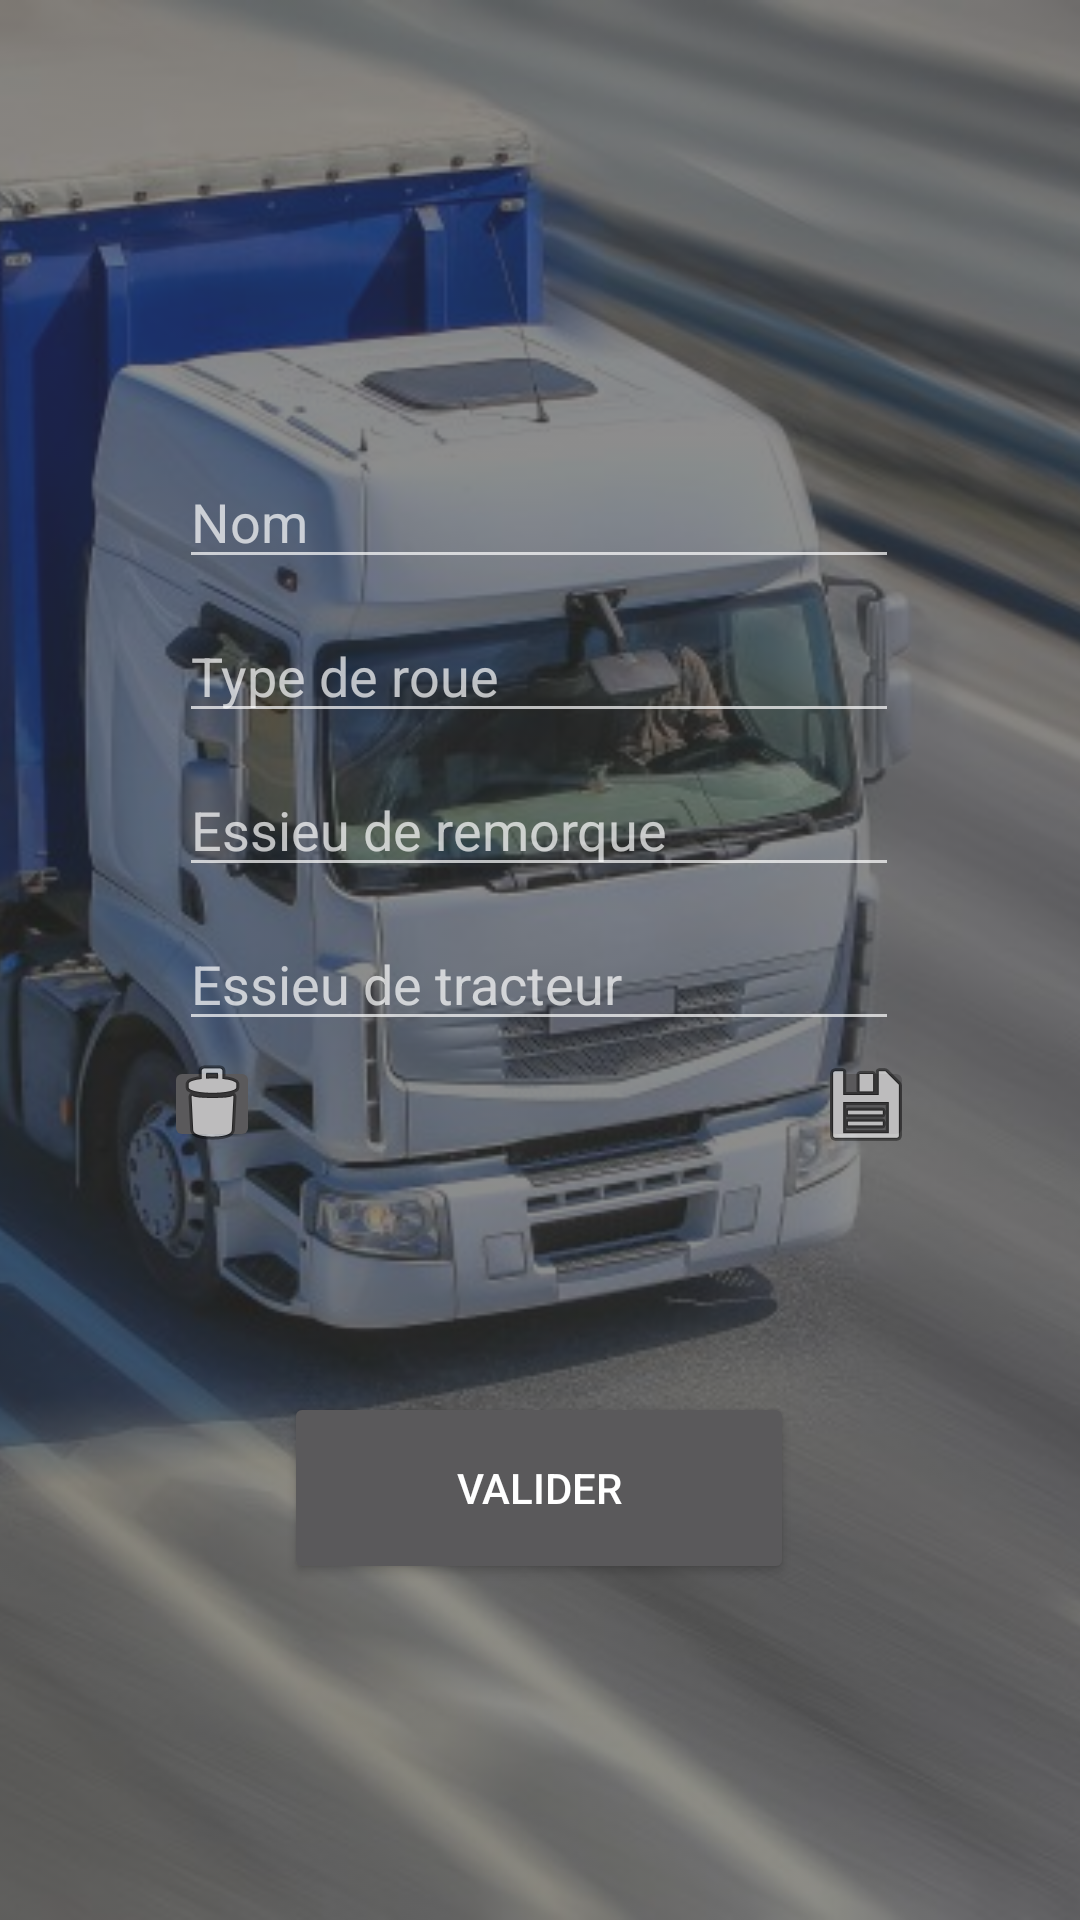

Point at icon controls on the screen. Image size 1080px×1920px, points as (x,y).
delete: (212,1104)
save: (860,1104)
